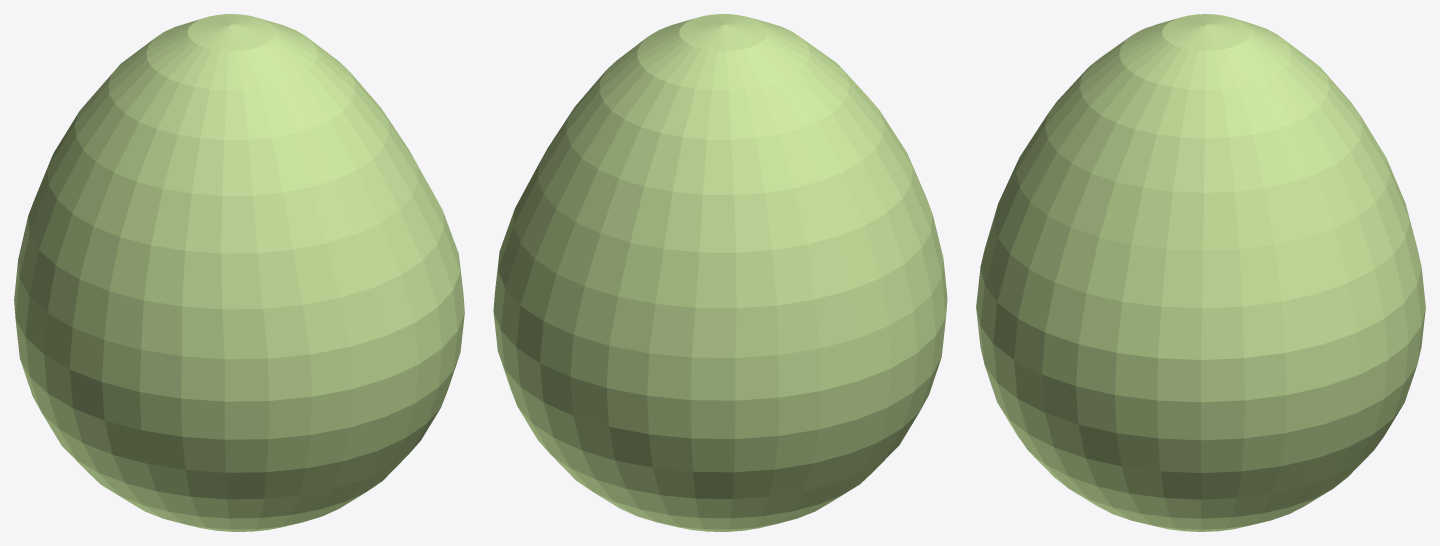
Rendered from egg1.fbx.
3 views of the same model, side by side, from view 1: azimuth 30°, elevation 25°; view 2: azimuth 150°, elevation 25°; view 3: azimuth 270°, elevation 25° (orthographic).
Parts seen in each view (by area): view 1: Cube; view 2: Cube; view 3: Cube.
Part boxes in pixels (bbox=[...]): Cube: bbox=[14, 14, 464, 531]; Cube: bbox=[493, 14, 947, 531]; Cube: bbox=[976, 14, 1425, 531].
Bounding box in the file's own units: 40 × 47.46 × 40.
